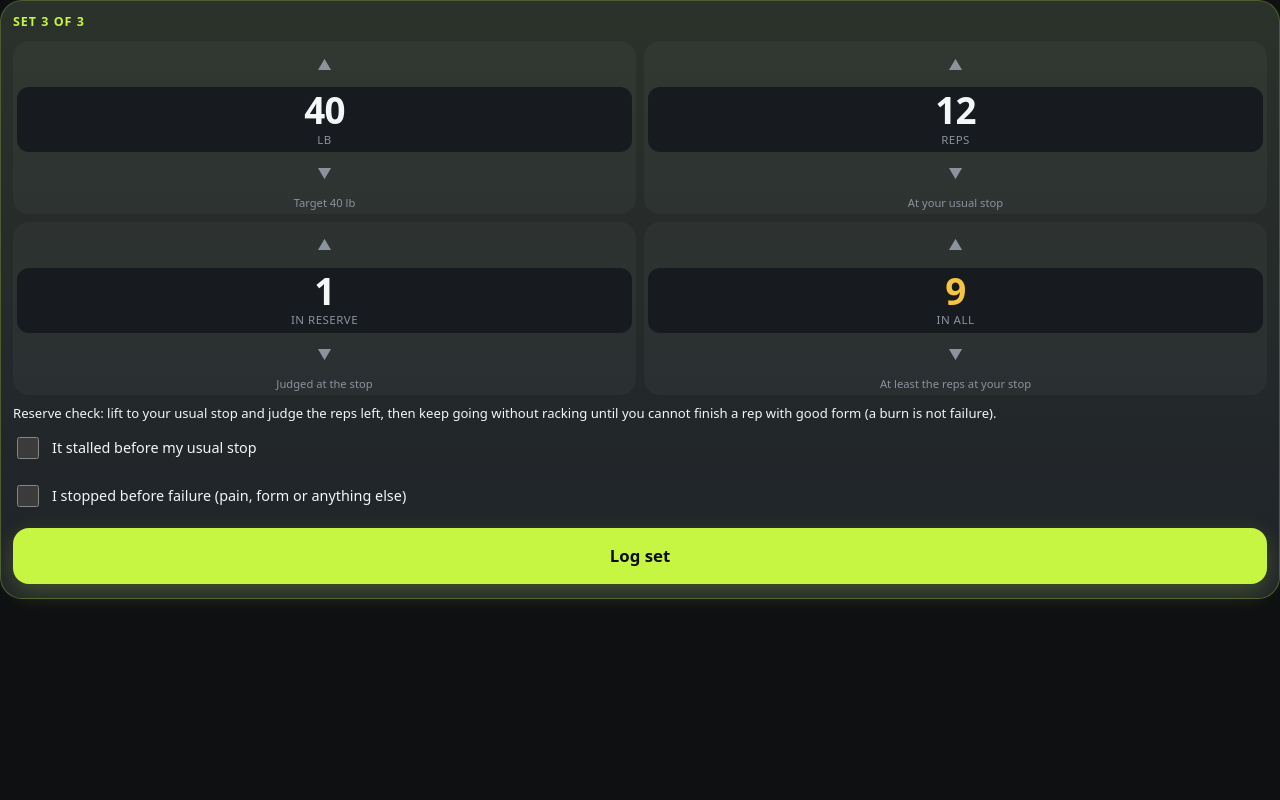
Test case: the logger on a reserve check › names on Keep, and skips by, what a set that stalled early keeps
Click the checkbox with test id "check-failed-early" at (28, 448), box [17,437,39,459]
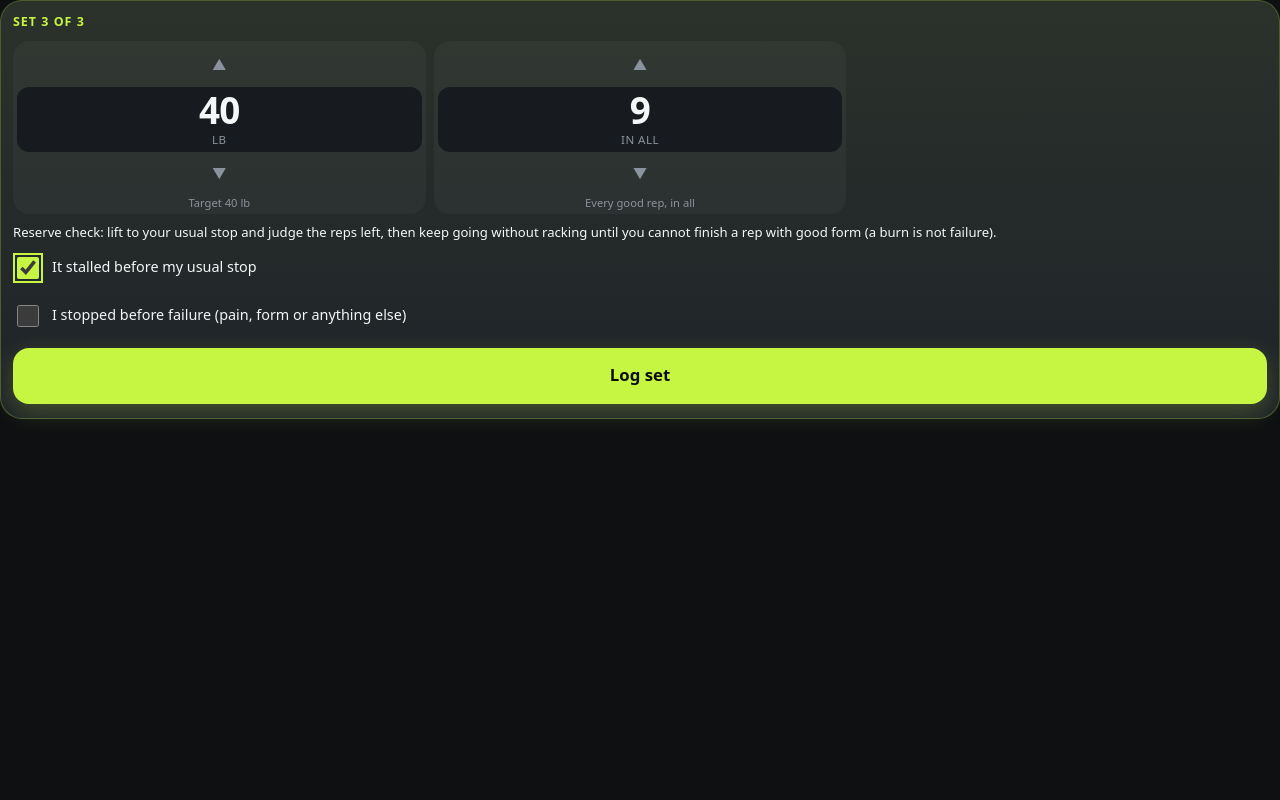
Click the button with test id "logger-total" at (640, 120), box [438,87,842,152]
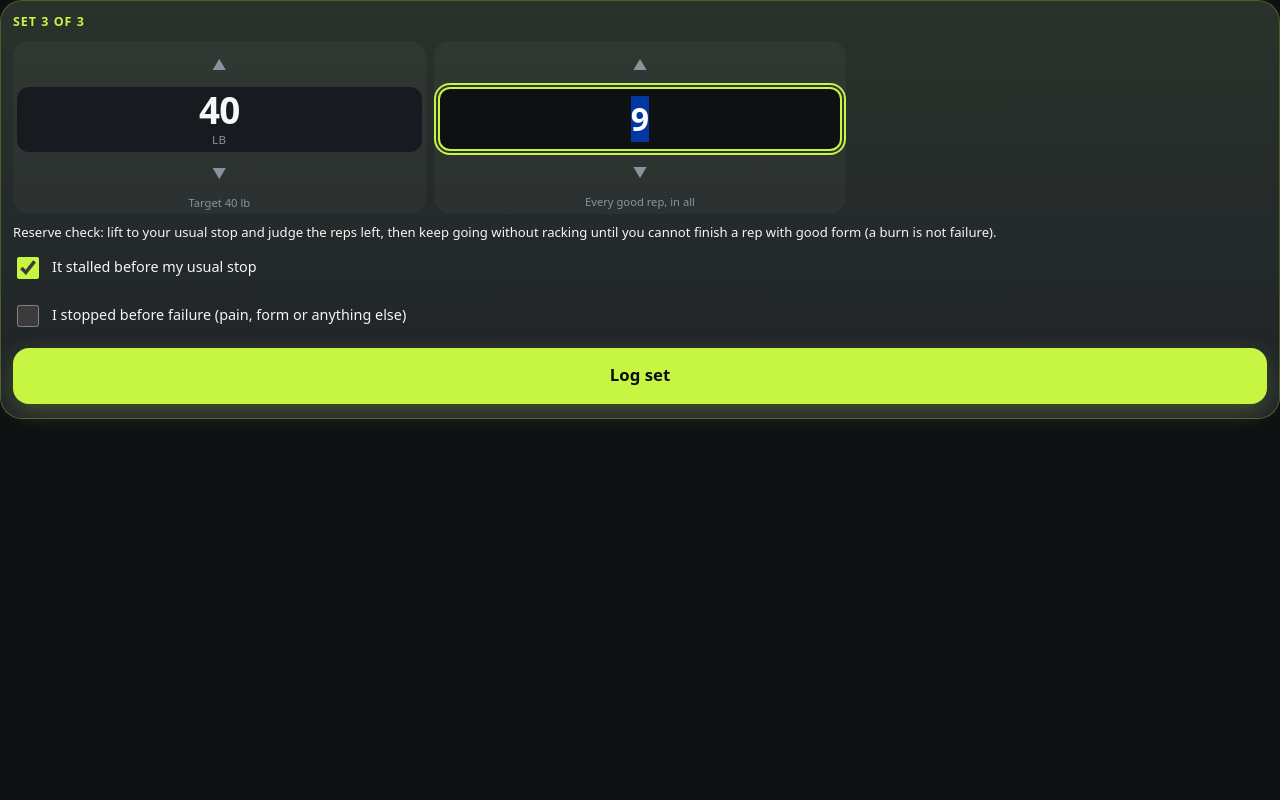
Replace the text in the number field named "Reps in all" with "80" at (640, 119), box [438,87,842,151]
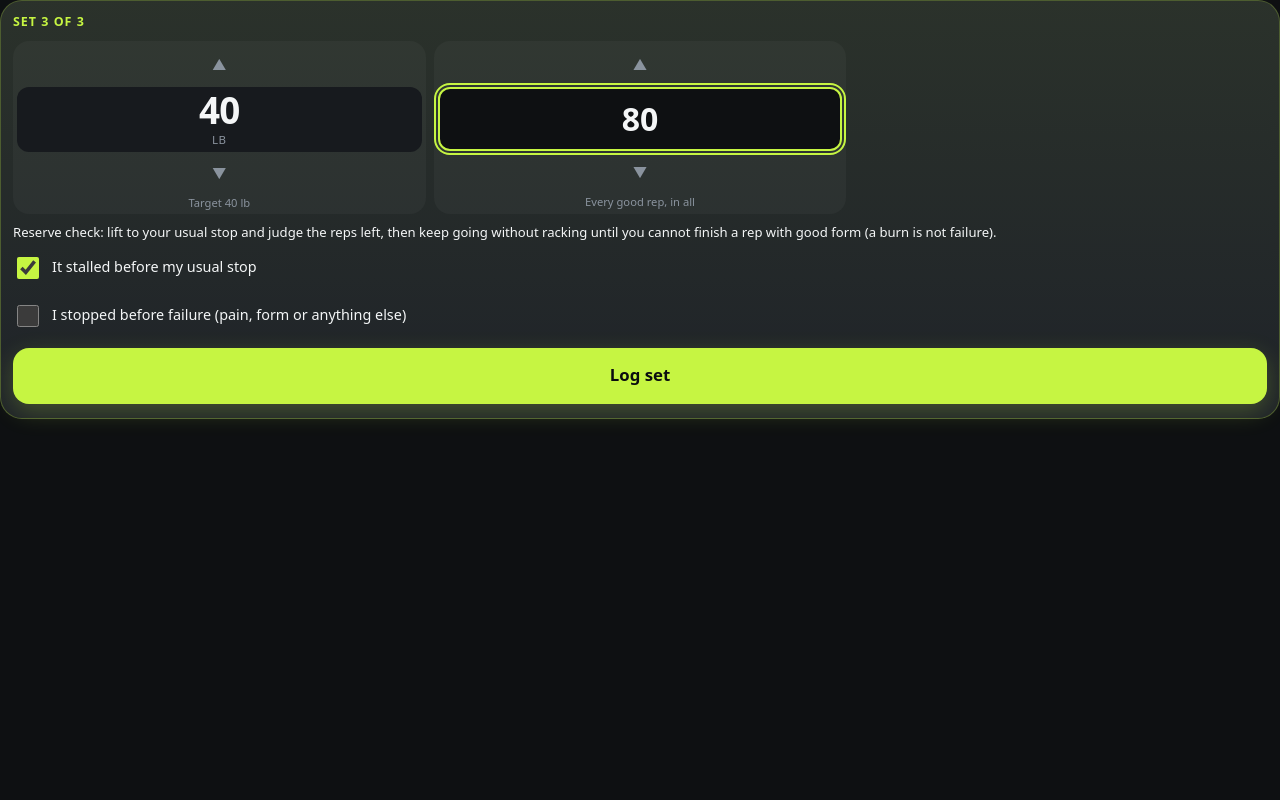
Click the button with test id "log-set" at (640, 376), box [13,348,1267,404]
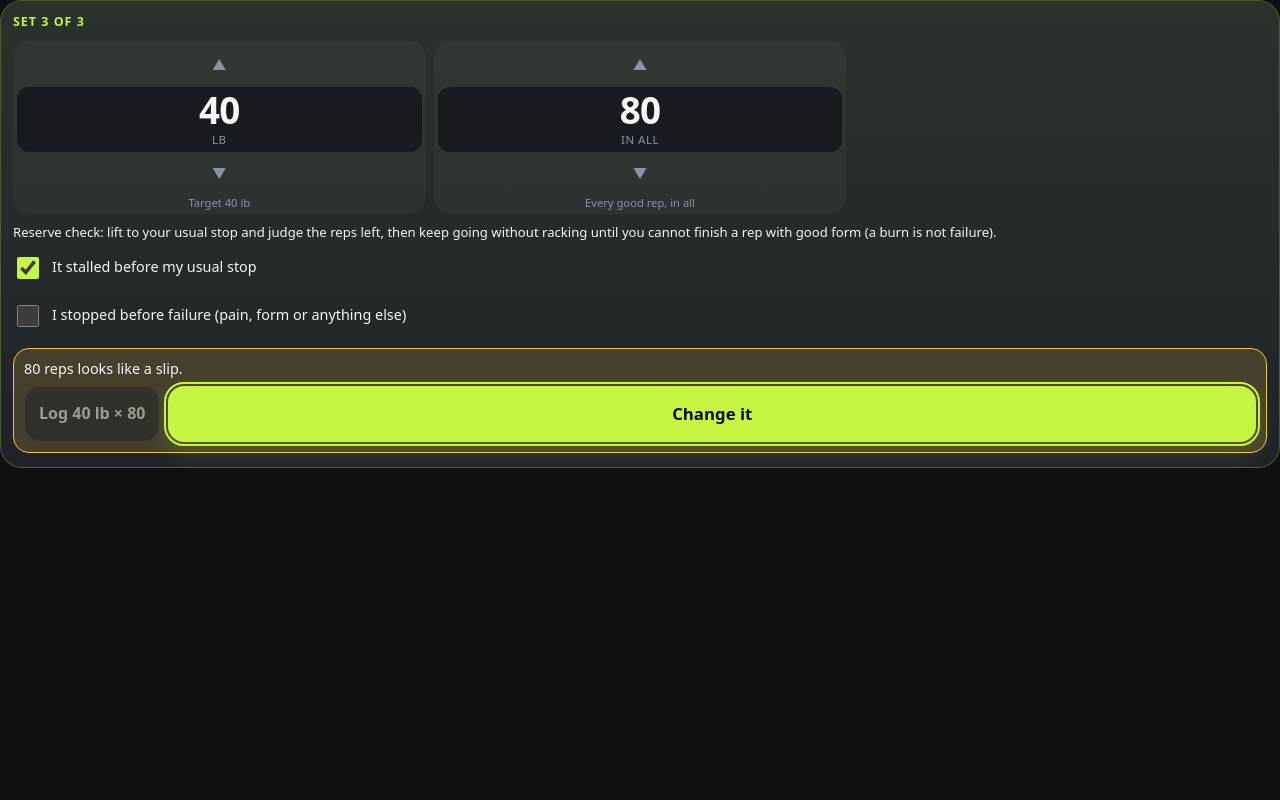
Result: the button "Log 40 lb × 80" is shown at [24,386,160,442]
